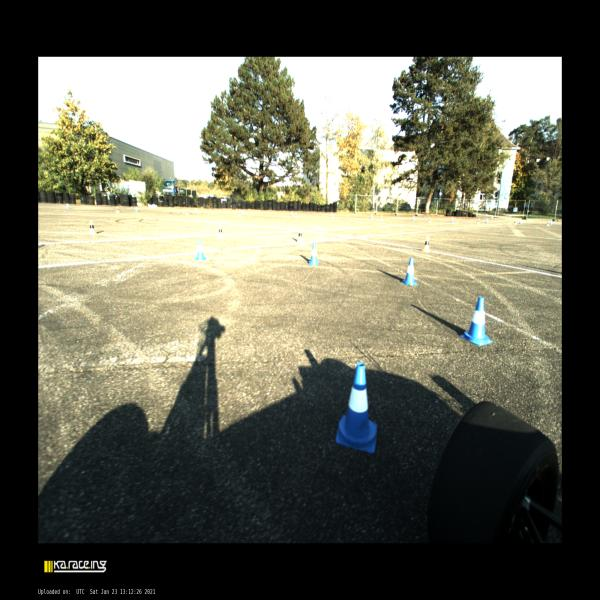blue_cone: (336, 363, 376, 452), (460, 297, 493, 345), (401, 257, 418, 286), (308, 243, 319, 265), (195, 239, 206, 260), (290, 210, 294, 216), (66, 204, 70, 209), (549, 220, 553, 225), (135, 206, 138, 212), (412, 215, 415, 221), (485, 218, 488, 223), (519, 219, 522, 224), (242, 209, 244, 215), (451, 216, 453, 222), (195, 209, 197, 214), (371, 214, 373, 219)
yellow_cone: (423, 236, 431, 252), (88, 220, 97, 234), (216, 224, 224, 238), (297, 229, 304, 243), (546, 220, 550, 226), (116, 207, 120, 212), (186, 209, 189, 215), (238, 210, 241, 216), (428, 218, 431, 223), (380, 215, 383, 220), (476, 220, 479, 224), (514, 219, 516, 225), (295, 212, 297, 218)
